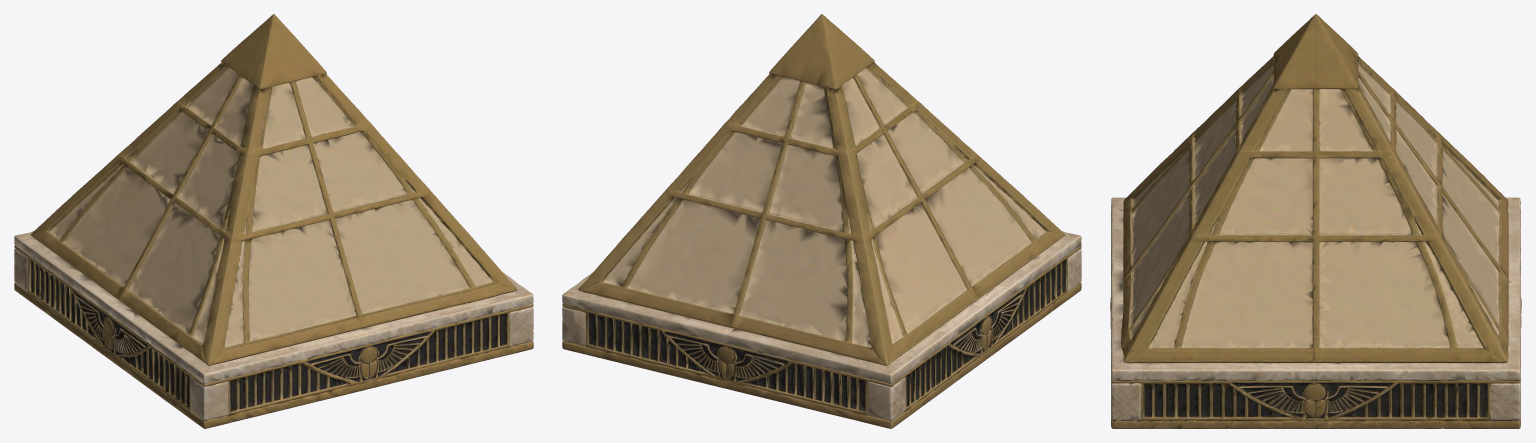
3 renders of one model, left to right at view 1: azimuth 30°, elevation 25°; view 2: azimuth 150°, elevation 25°; view 3: azimuth 270°, elevation 25°, orthographic. The views are drawn at different scales.
Visible parts, largest first — view 1: mesh_node; view 2: mesh_node; view 3: mesh_node.
Part boxes in pixels (x1,y1,x2,y2): mesh_node: (14,14,533,428); mesh_node: (562,14,1081,428); mesh_node: (1110,14,1521,428).
Size of the model in its own units: 1.9 by 1.68 by 1.9.
1 material, 1 textured.
